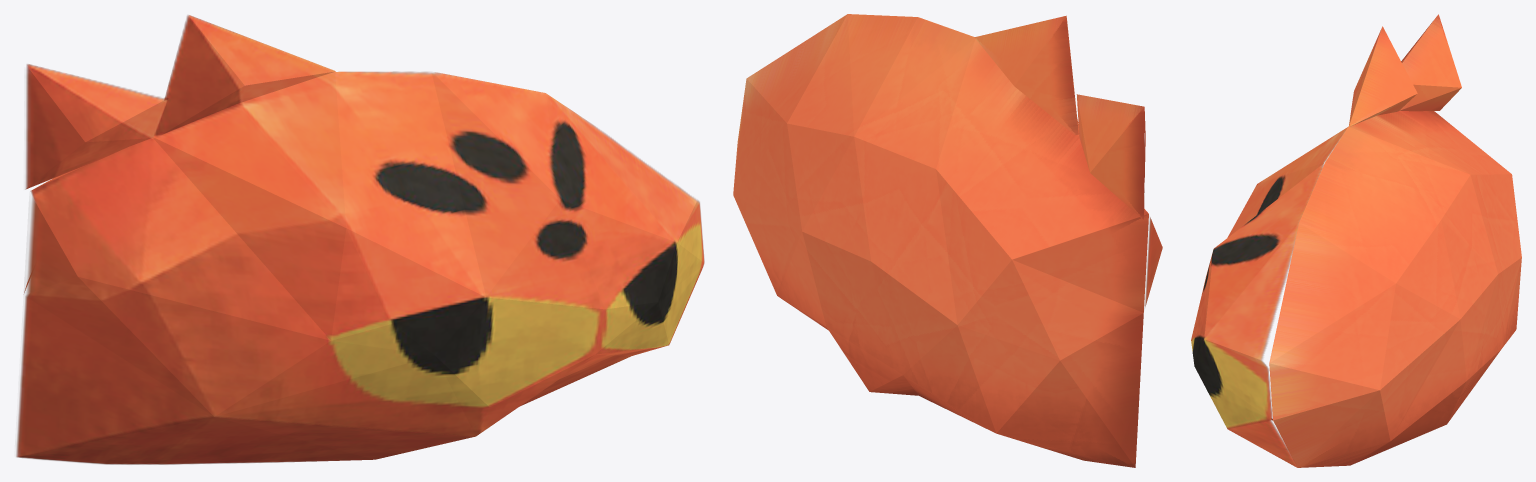
File: manool.glb
3 renders of one model, left to right at view 1: azimuth 30°, elevation 25°; view 2: azimuth 150°, elevation 25°; view 3: azimuth 270°, elevation 25°, orthographic. The views are drawn at different scales.
Parts seen in each view (by area): view 1: Head — reference facets, Near ear — reference facets, Upper ear — reference facets; view 2: Head — continuous sculpted back, Upper ear — continuous sculpted back, Near ear — continuous sculpted back, Head — reference facets; view 3: Head — continuous sculpted back, Head — reference facets, Near ear — continuous sculpted back, Upper ear — continuous sculpted back, Upper ear — reference facets.
Boxes of the visible parts, <box> form: Head — reference facets: <box>16,71,704,464</box>; Near ear — reference facets: <box>25,64,168,189</box>; Upper ear — reference facets: <box>154,15,335,135</box>; Head — continuous sculpted back: <box>733,14,1148,467</box>; Upper ear — continuous sculpted back: <box>974,15,1078,135</box>; Near ear — continuous sculpted back: <box>1076,94,1144,219</box>; Head — reference facets: <box>1077,119,1162,306</box>; Head — continuous sculpted back: <box>1269,111,1521,467</box>; Head — reference facets: <box>1191,127,1347,467</box>; Near ear — continuous sculpted back: <box>1399,14,1461,111</box>; Upper ear — continuous sculpted back: <box>1349,26,1417,126</box>; Upper ear — reference facets: <box>1348,28,1381,126</box>.
Size of the model in its own units: 3.82 by 3.08 by 2.54.
Materials: 4 (4 with a texture image).
